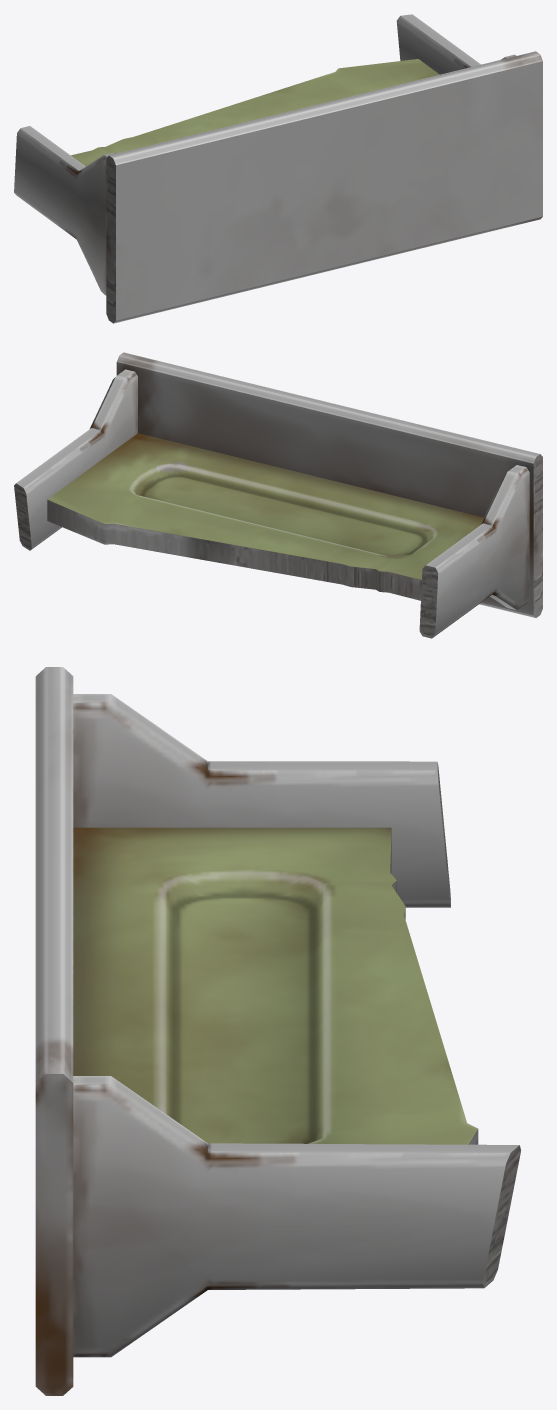
Rendered from HubWall4.FBX.
The picture shows the model from 3 angles, top to bottom: view 1: azimuth 30°, elevation 25°; view 2: azimuth 150°, elevation 25°; view 3: azimuth 270°, elevation 25°; orthographic projection. The views are drawn at different scales.
Parts seen in each view (by area): view 1: HubWall4_LOD0; view 2: HubWall4_LOD0; view 3: HubWall4_LOD0.
Boxes of the visible parts, left/top/right/bottom form: HubWall4_LOD0: left=14, top=14, right=542, bottom=323; HubWall4_LOD0: left=14, top=352, right=542, bottom=638; HubWall4_LOD0: left=35, top=667, right=520, bottom=1395.
Size of what is drawn, in the model's own units: 5.24 by 1.94 by 2.64.
